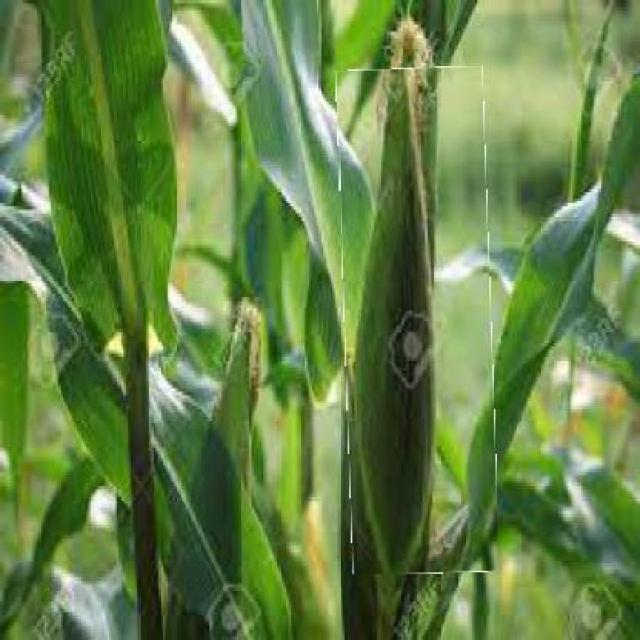Corn: (340, 68, 495, 575)
